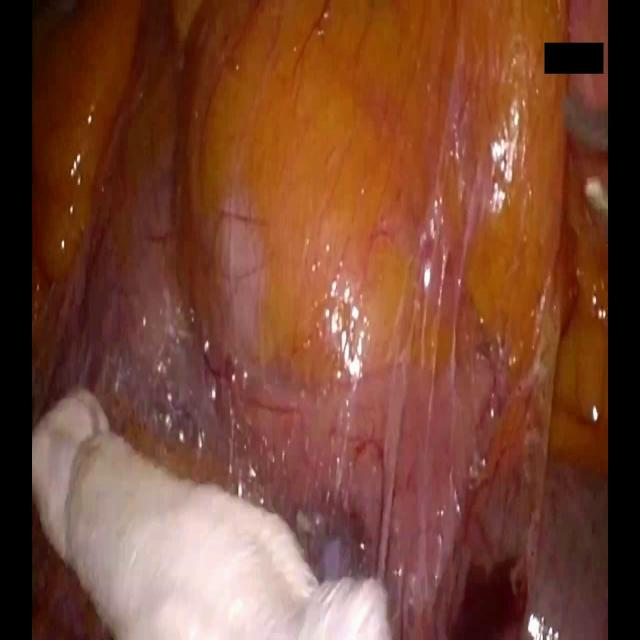surgical-area: (32, 0, 608, 639)
